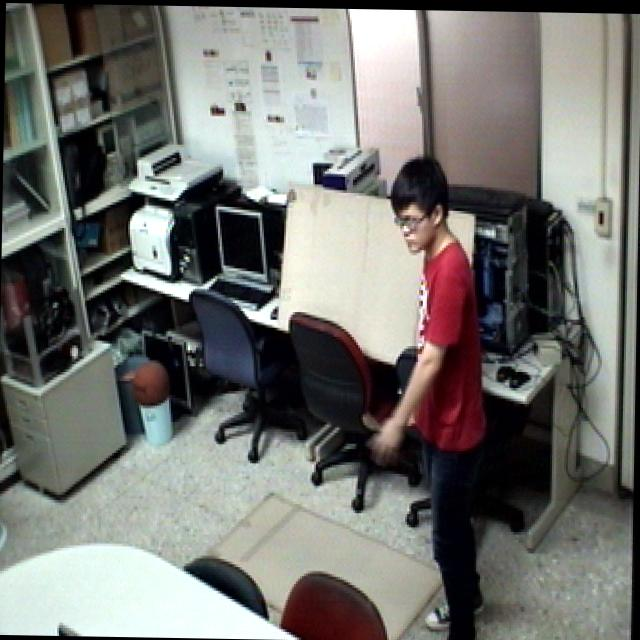stand: (360, 150, 497, 640)
